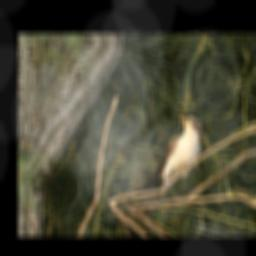Cuckoo: (118, 103, 211, 217)
